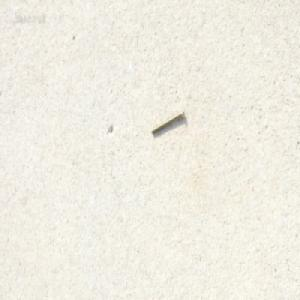Bolt: (150, 106, 183, 135)
